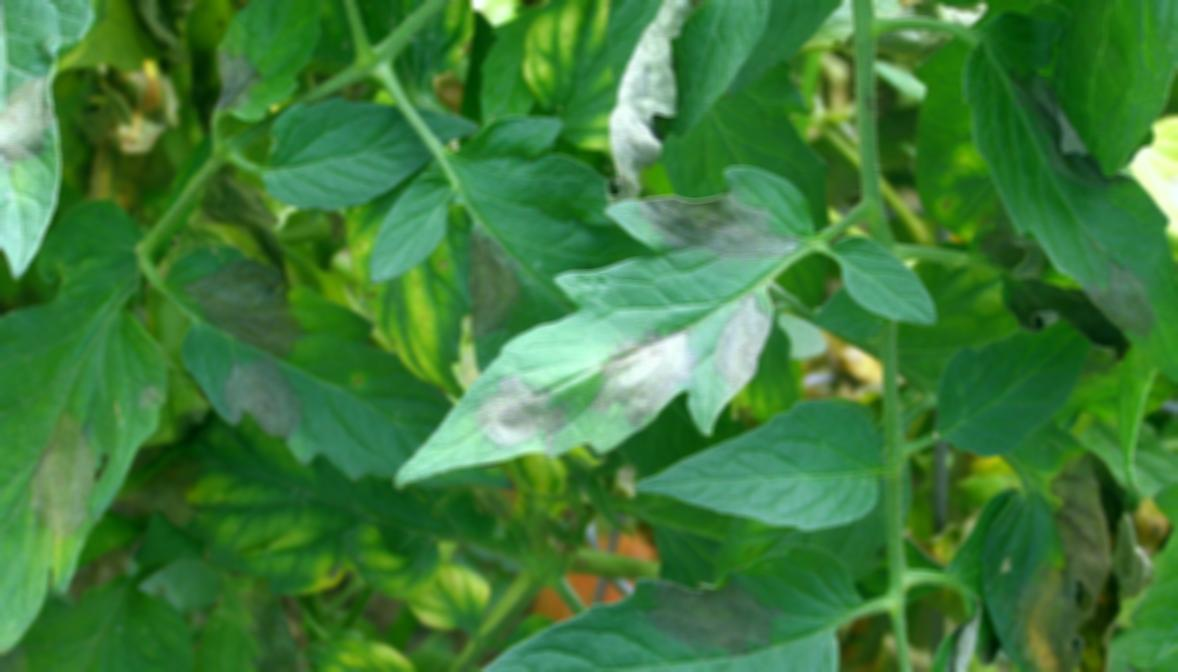Tomato leaf late blight: (400, 191, 832, 473), (956, 16, 1178, 424), (0, 185, 178, 665), (164, 233, 475, 477), (440, 565, 876, 672), (979, 463, 1072, 672), (203, 0, 336, 133)
